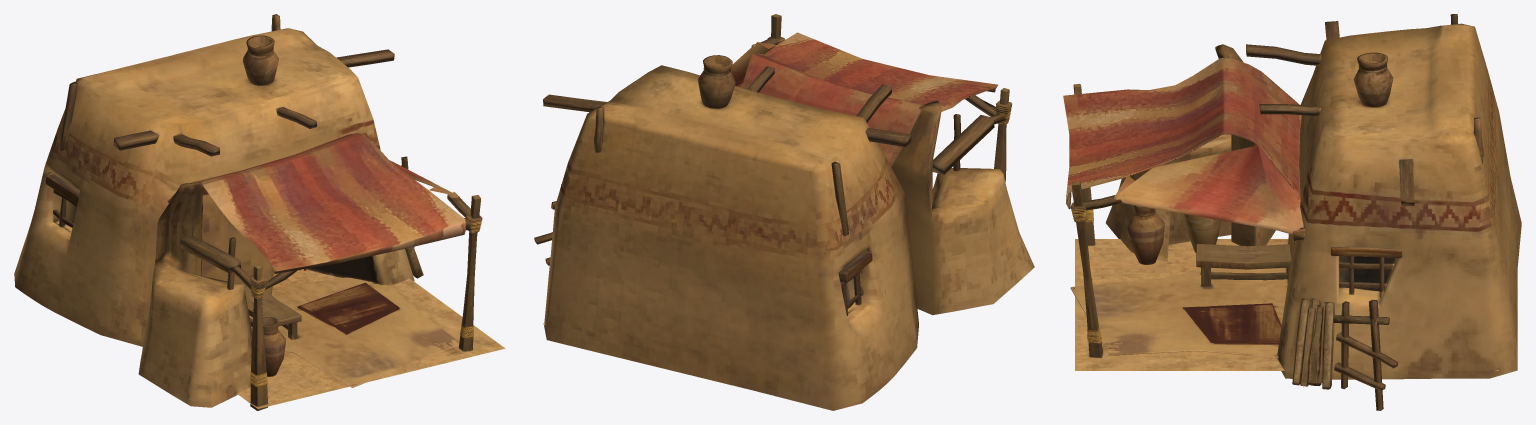
The model's file is tripo_convert_0612cff1-f37e-41de-bb79-1213fff50a58.fbx.
3 renders of one model, left to right at view 1: azimuth 30°, elevation 25°; view 2: azimuth 150°, elevation 25°; view 3: azimuth 270°, elevation 25°, orthographic. The views are drawn at different scales.
Visible parts, largest first — view 1: tripo_node_0612cff1; view 2: tripo_node_0612cff1; view 3: tripo_node_0612cff1.
Part boxes in pixels (<box>): tripo_node_0612cff1: <box>14,14,505,410</box>; tripo_node_0612cff1: <box>534,14,1034,410</box>; tripo_node_0612cff1: <box>1063,14,1521,410</box>.
Bounding box in the file's own units: 0.979 × 0.6519 × 0.9995.
1 material, 1 textured.
